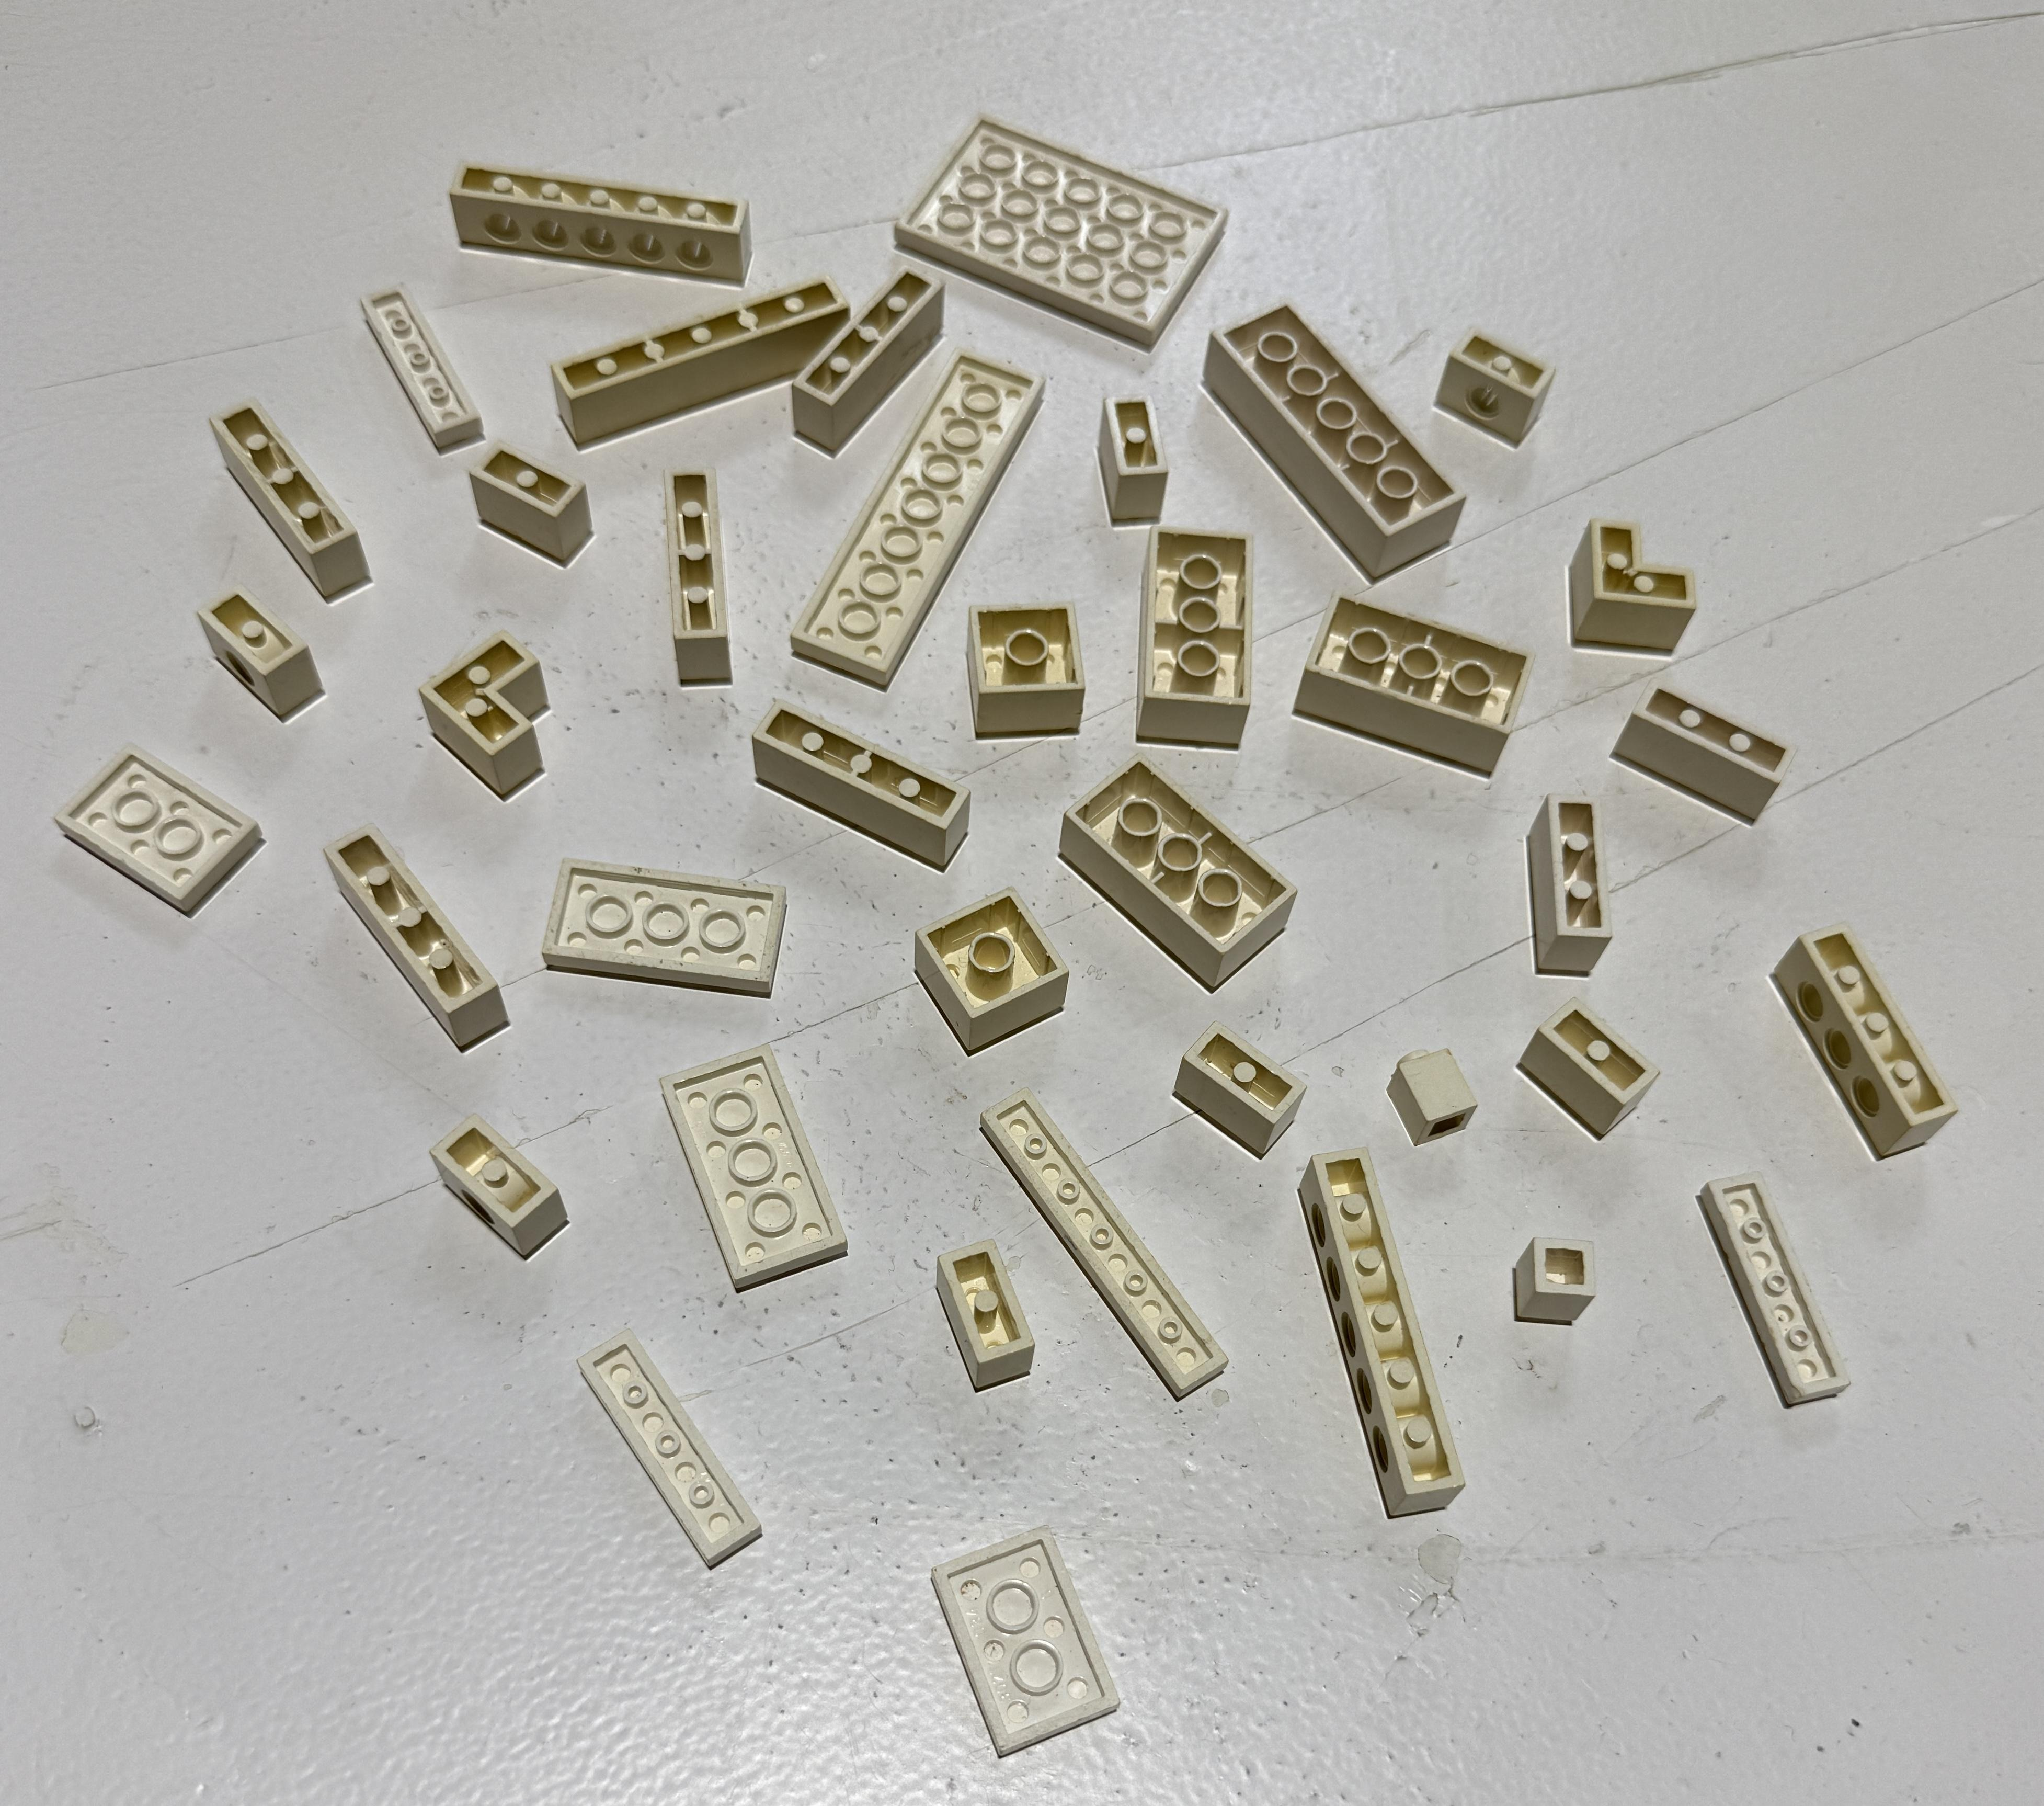brick_1x1: (1359, 995, 1499, 1159), (1479, 1206, 1610, 1337)
brick_1x2: (910, 1201, 1070, 1416), (423, 1105, 598, 1271), (1155, 1002, 1324, 1166), (171, 574, 347, 727), (455, 420, 620, 580), (1072, 375, 1213, 560), (1516, 1001, 1669, 1152), (1427, 321, 1574, 467)
brick_1x3: (1600, 662, 1810, 842), (1500, 767, 1638, 1001)
brick_1x4: (716, 678, 990, 898), (303, 804, 535, 1062), (1756, 913, 1976, 1171), (192, 378, 409, 615), (774, 249, 960, 474), (631, 446, 749, 706)
brick_2x2: (889, 870, 1082, 1060), (946, 577, 1110, 767)
brick_2x4: (1039, 746, 1309, 997), (1284, 579, 1551, 790), (1133, 500, 1258, 760)
